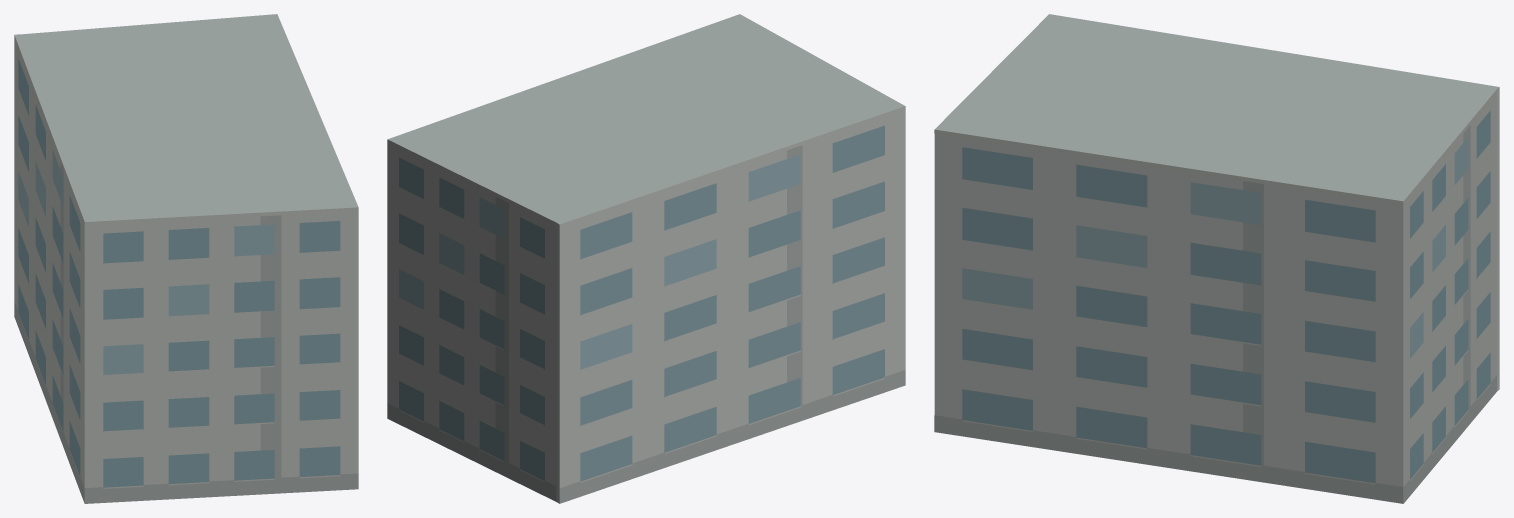
The model's file is survey-upis-32834517.glb.
3 renders of one model, left to right at view 1: azimuth 30°, elevation 25°; view 2: azimuth 150°, elevation 25°; view 3: azimuth 270°, elevation 25°, orthographic. The views are drawn at different scales.
Parts seen in each view (by area): view 1: survey-upis-32834517.tmp; view 2: survey-upis-32834517.tmp; view 3: survey-upis-32834517.tmp.
Part boxes in pixels (x1=…): survey-upis-32834517.tmp: x1=14, y1=14, x2=358, y2=503; survey-upis-32834517.tmp: x1=387, y1=14, x2=905, y2=503; survey-upis-32834517.tmp: x1=934, y1=14, x2=1499, y2=503.
Size of the model in its own units: 23.91 by 18 by 30.47.
